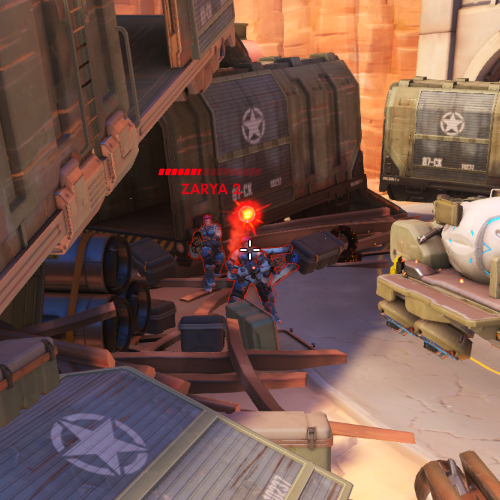hpbar: (157, 167, 263, 176)
